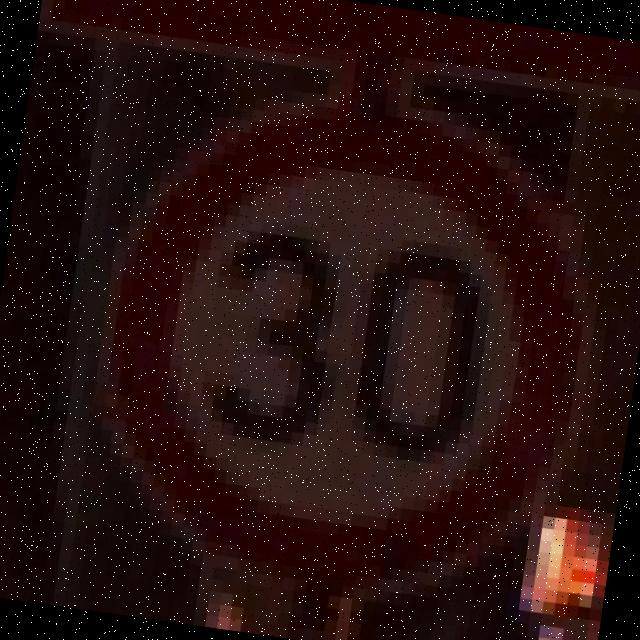Ograniczenie predkosci do 30: (72, 82, 618, 624)
